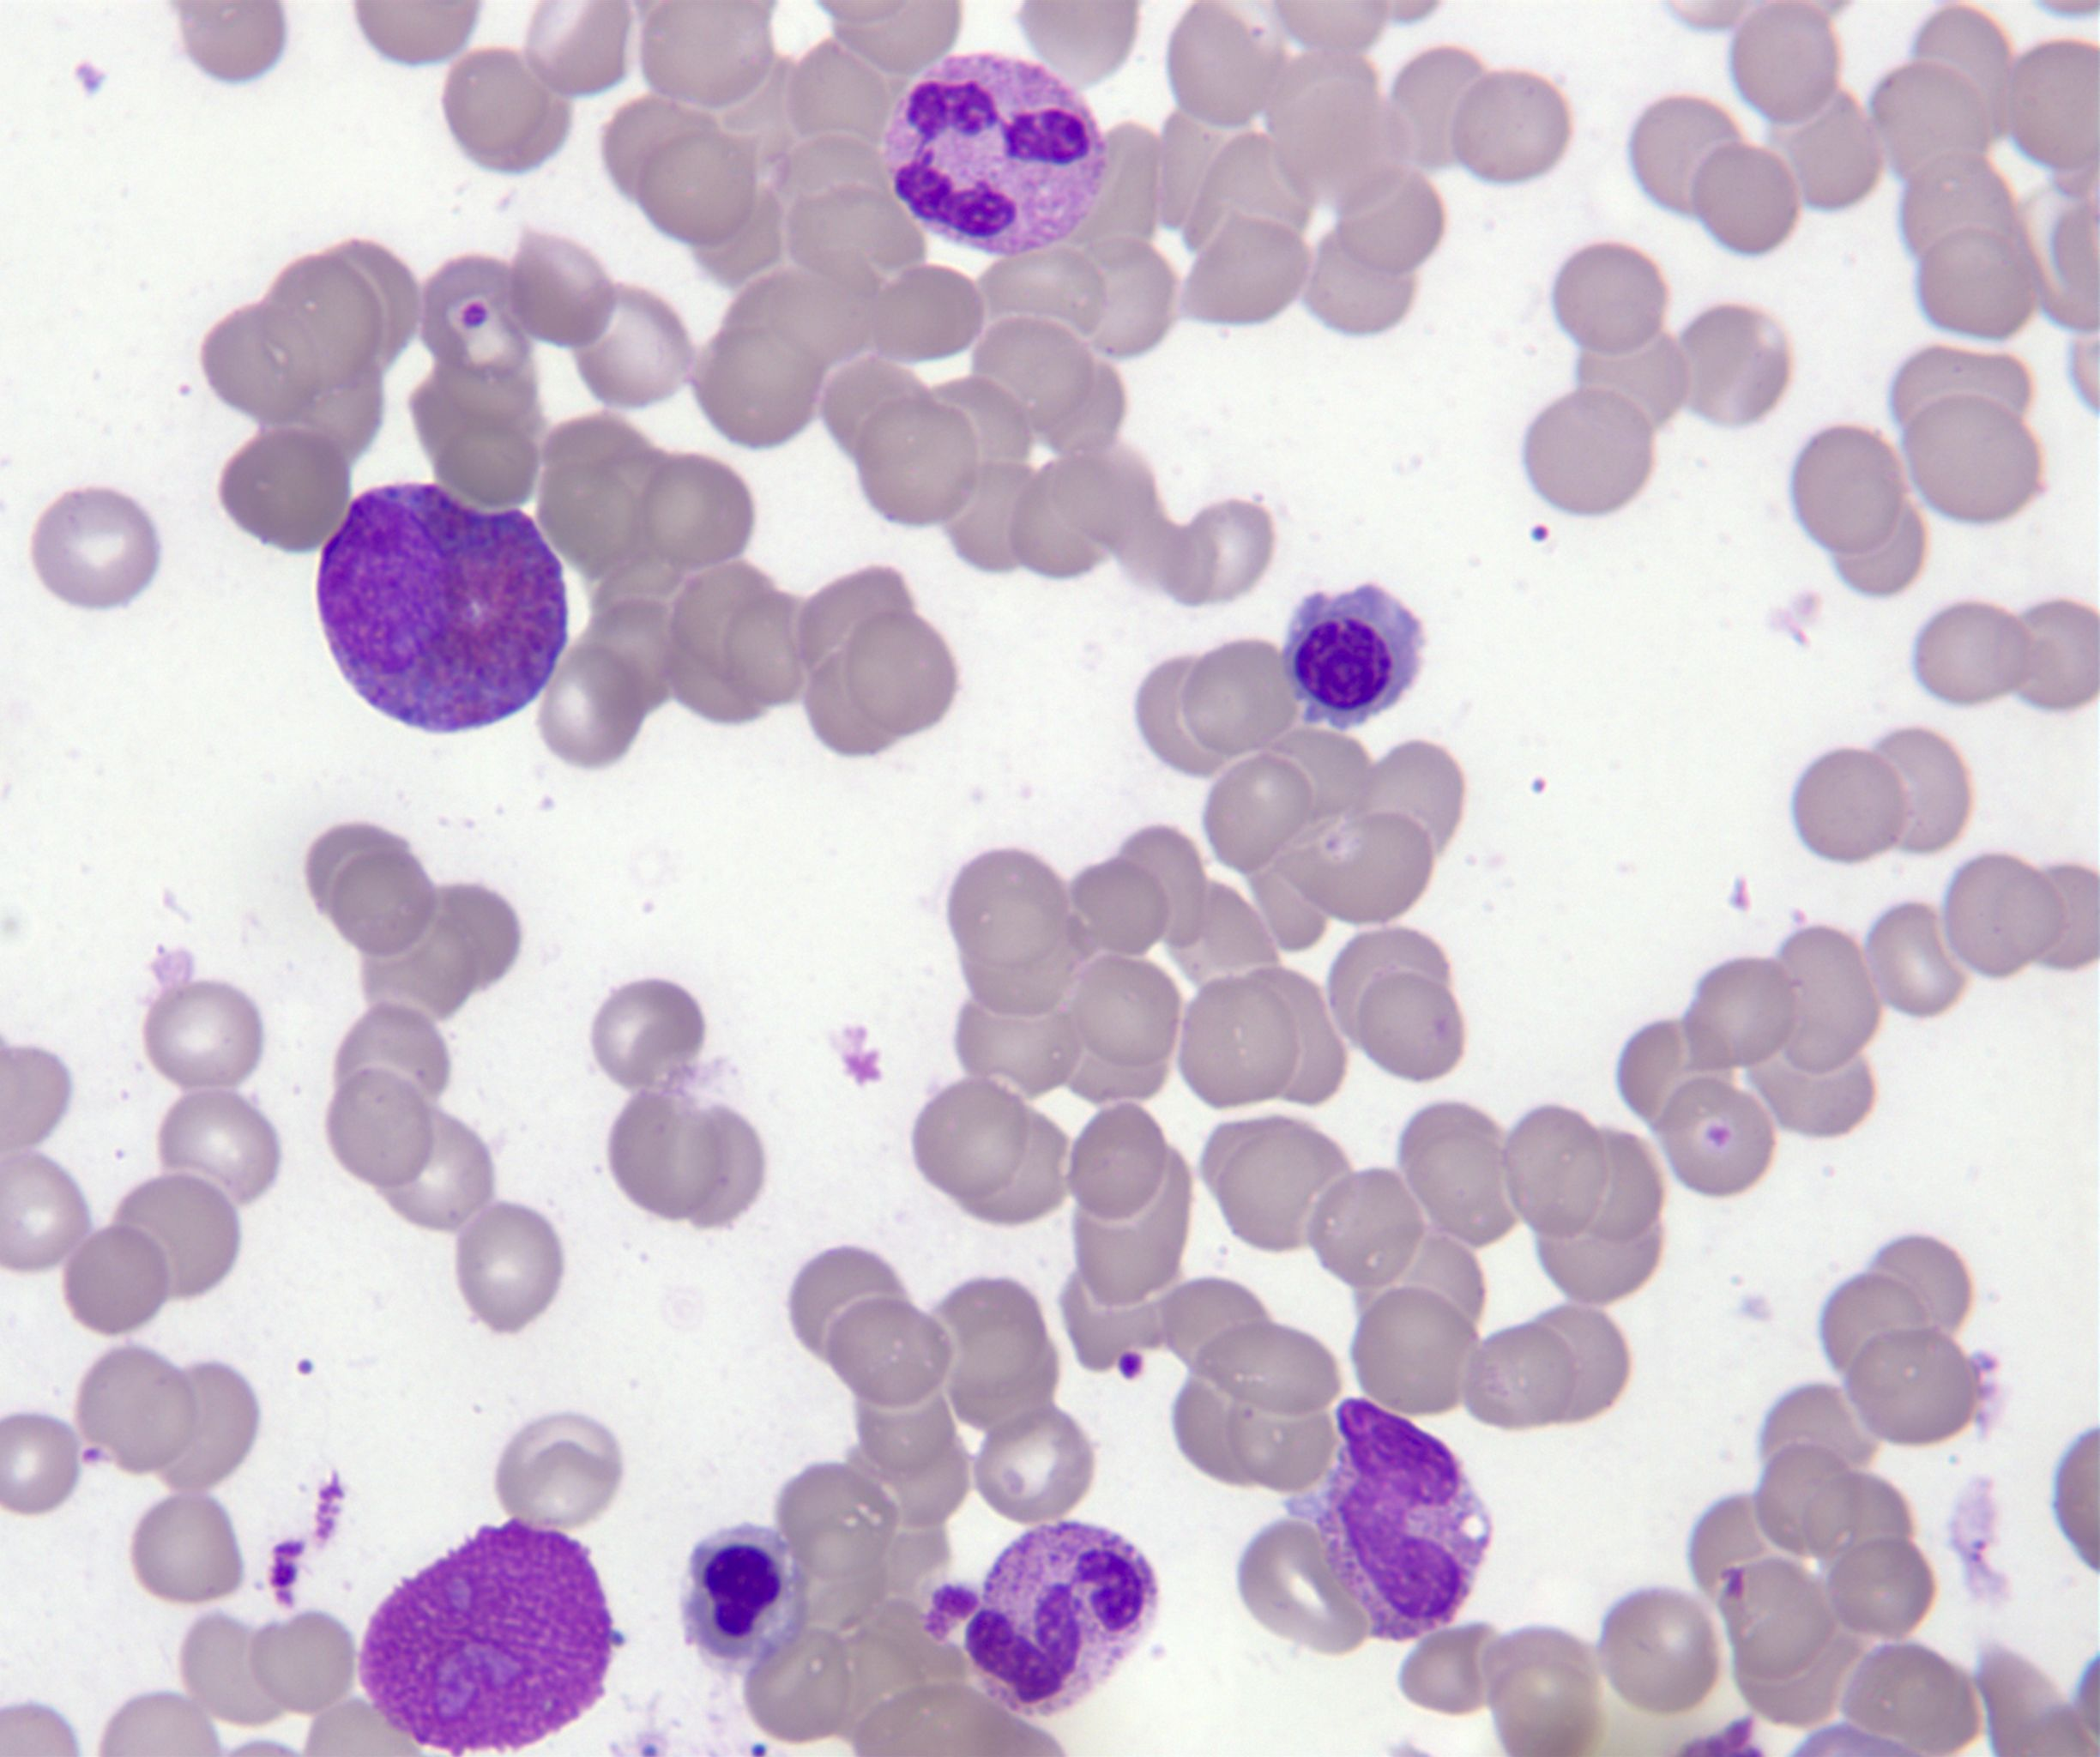24: (1275, 572, 1428, 733), (675, 1520, 806, 1668)
5: (1313, 1396, 1493, 1649)
6: (877, 44, 1111, 262), (961, 1511, 1162, 1727)
E1: (310, 476, 577, 742)
x: (354, 1511, 617, 1757)
